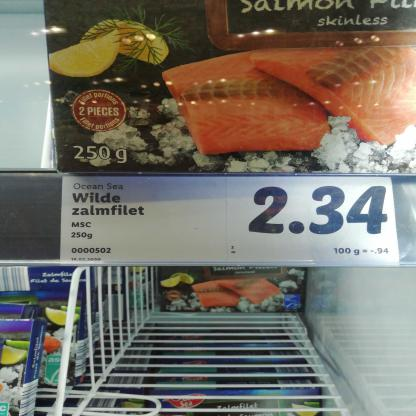prtg: (60, 177, 401, 267)
